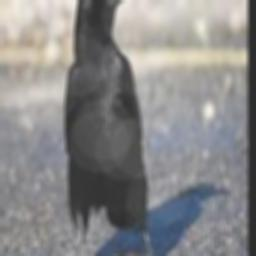Crow: (65, 0, 155, 256)
